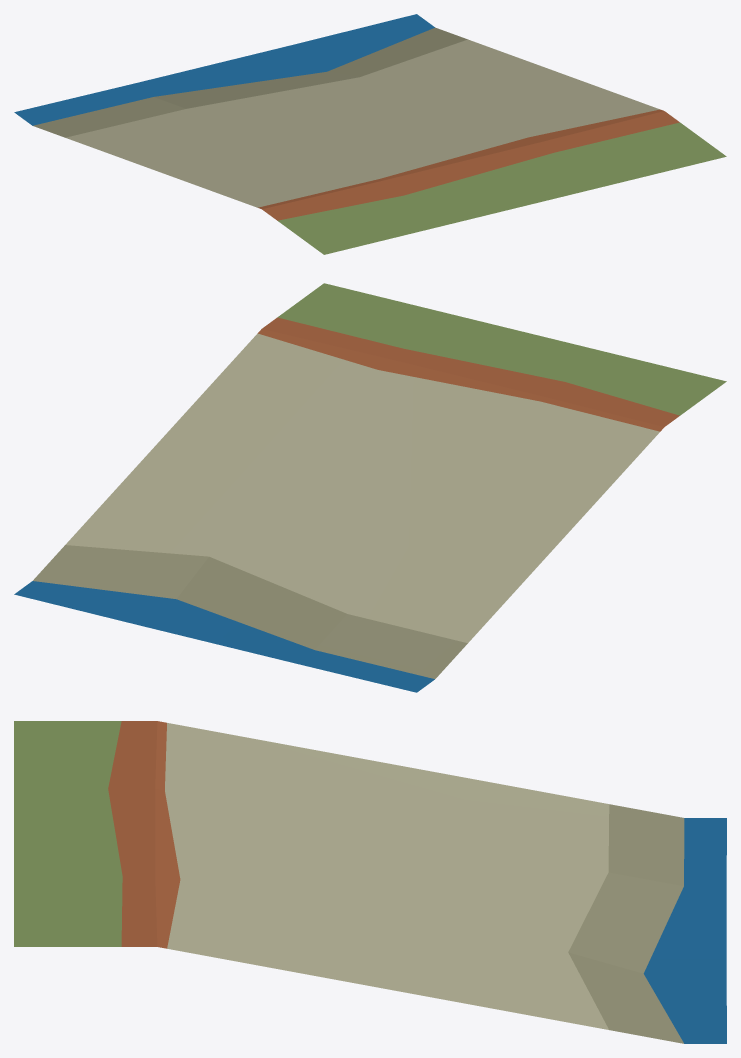
The model's file is SA_ENV_BeachSection_02.gltf.
3 views of the same model, one above another, from view 1: azimuth 30°, elevation 25°; view 2: azimuth 150°, elevation 25°; view 3: azimuth 270°, elevation 25° (orthographic). The views are drawn at different scales.
Parts seen in each view (by area): view 1: SA_ENV_BeachSection_02; view 2: SA_ENV_BeachSection_02; view 3: SA_ENV_BeachSection_02.
Part boxes in pixels (<box>): SA_ENV_BeachSection_02: <box>14,14,726,254</box>; SA_ENV_BeachSection_02: <box>14,283,726,692</box>; SA_ENV_BeachSection_02: <box>14,721,726,1043</box>.
Bounding box in the file's own units: 15 × 3.02 × 20.
Materials: 1 (1 with a texture image).
